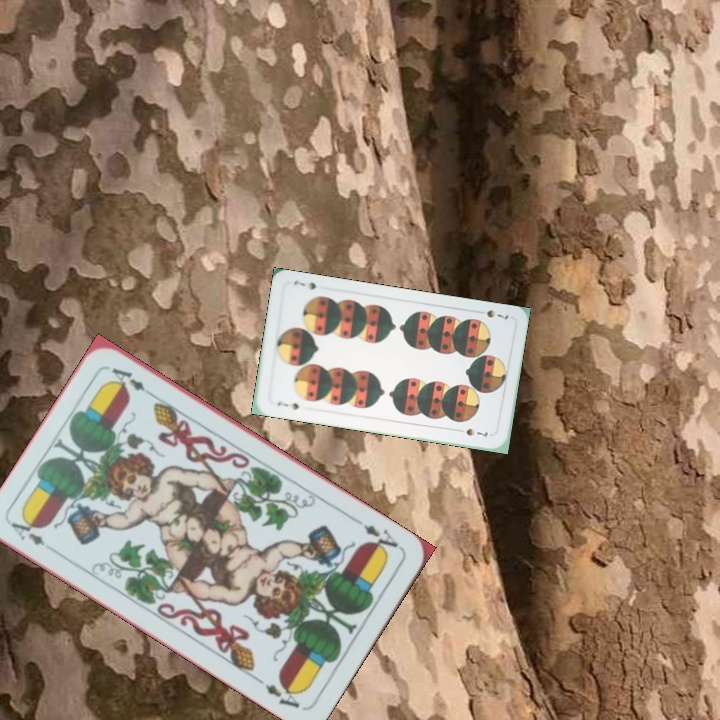EA: (359, 520, 405, 557), (6, 514, 48, 549)
S7: (473, 306, 511, 322), (273, 397, 303, 412)
